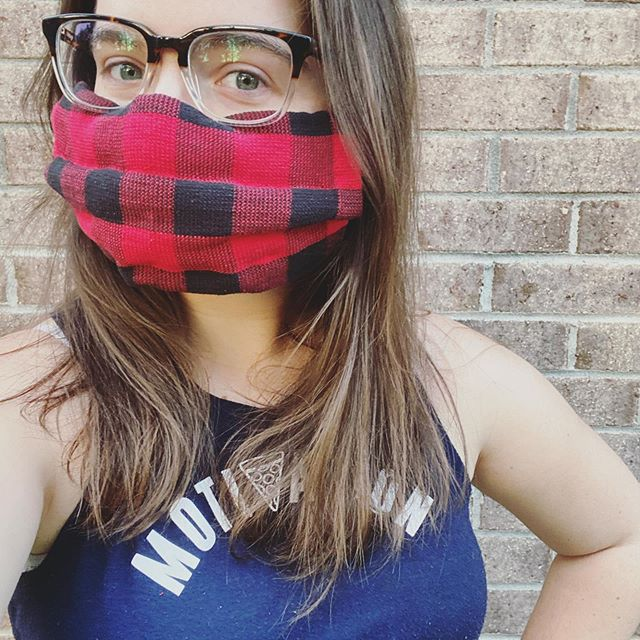homemade: (45, 96, 372, 293)
